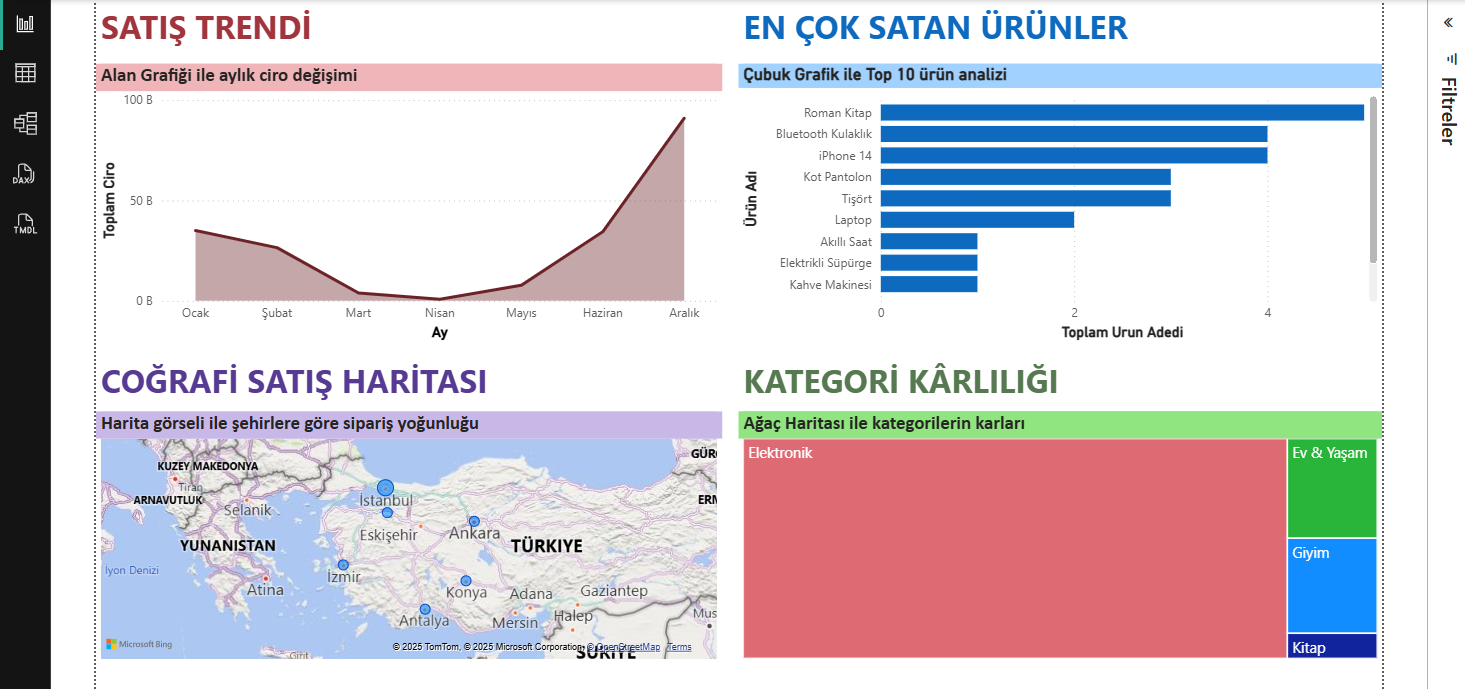

Layout of this report page (visuals, bound fields, positions):
{"tool":"powerbi","page":{"name":"1. sayfa","canvas":[1280,720],"ordinal":0},"visuals":[{"type":"areaChart","title":"Alan Grafiği ile aylık ciro değişimi","fields":{"Category":["Calendar.Month"],"Y":["public vw_sales_details.Toplam Ciro"]},"box":[0,63.1,623,279.9],"z":0},{"type":"textbox","box":[0,0,234.6,52.1],"z":1000},{"type":"textbox","box":[639.5,0,403.4,59],"z":2000},{"type":"barChart","title":"Çubuk Grafik  ile Top 10 ürün analizi","fields":{"Category":["public vw_sales_details.product_name"],"Y":["public vw_sales_details.Toplam Urun Adedi"]},"box":[639.5,63.1,640.8,279.9],"z":3000},{"type":"textbox","box":[0,352.7,400.7,56.3],"z":4000},{"type":"map","title":"Harita  görseli ile şehirlere göre sipariş yoğunluğu","fields":{"Category":["public vw_sales_details.customer_city"],"Size":["public vw_sales_details.Sipariş Sayısı"]},"box":[0,408.9,623,251.1],"z":5000},{"type":"textbox","box":[639.5,352.7,336.2,54.9],"z":6000},{"type":"treemap","title":"Ağaç Haritası ile kategorilerin karları","fields":{"Group":["public vw_sales_details.category_name"],"Values":["public vw_sales_details.Toplam Kar"]},"box":[639.5,408.9,640.8,251.1],"z":7000}]}

Visuals, with their boxes on the page's 1280x720 design canvas (x1, y1, x2, y2). These are canvas units, not pixel positions in the 1465x689 screenshot, which may show the page scaled, cropped or inside an application window:
"Alan Grafiği ile aylık ciro değişimi" areaChart: (x1=0, y1=63, x2=623, y2=343)
textbox: (x1=0, y1=0, x2=235, y2=52)
textbox: (x1=640, y1=0, x2=1043, y2=59)
"Çubuk Grafik  ile Top 10 ürün analizi" barChart: (x1=640, y1=63, x2=1280, y2=343)
textbox: (x1=0, y1=353, x2=401, y2=409)
"Harita  görseli ile şehirlere göre sipariş yoğunluğu" map: (x1=0, y1=409, x2=623, y2=660)
textbox: (x1=640, y1=353, x2=976, y2=408)
"Ağaç Haritası ile kategorilerin karları" treemap: (x1=640, y1=409, x2=1280, y2=660)
